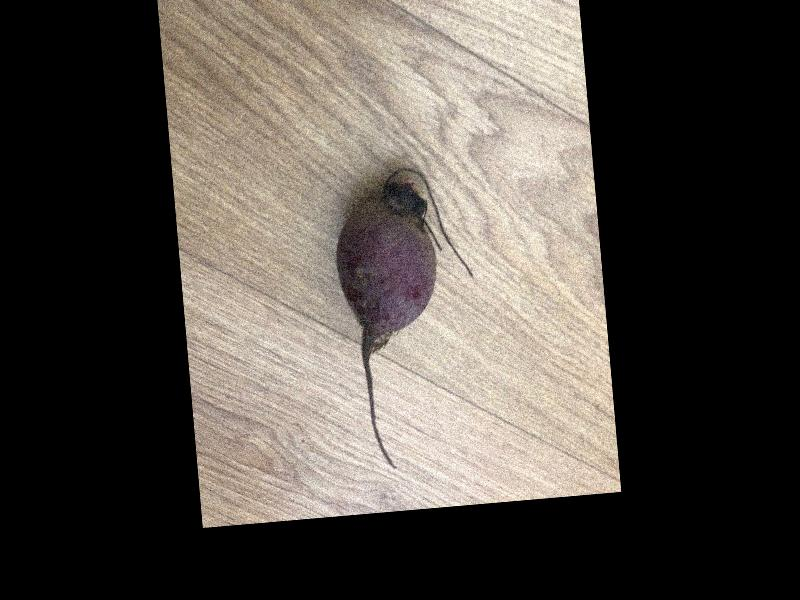Beet: (328, 163, 488, 473)
